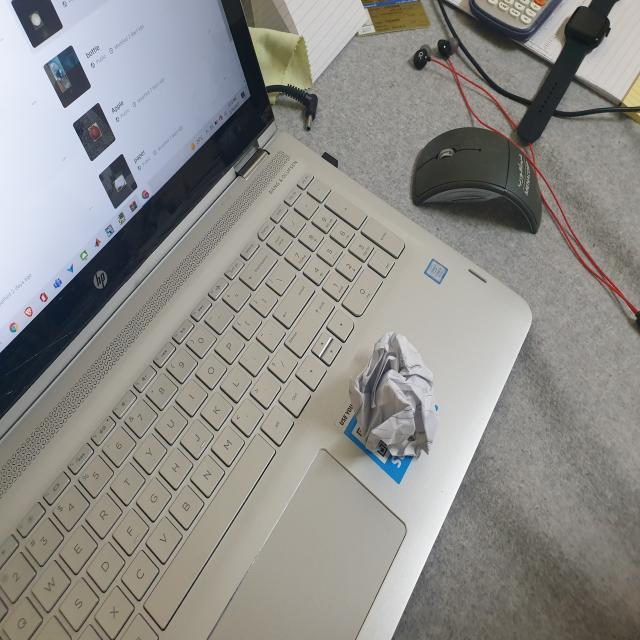Paper: (353, 331, 441, 464)
